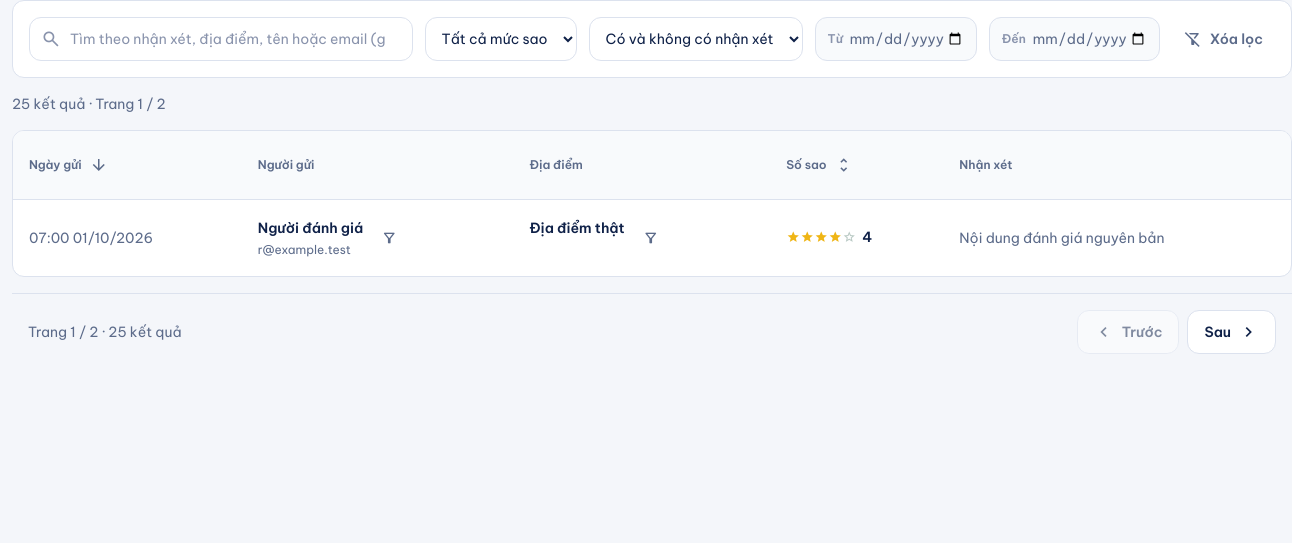
Test: A2 existing consumer compatibility › Feedback retains invalid date validation and suppresses invalid fetch
The image size is (1292, 543).
Expected: the text "Nội dung đánh giá nguyên bản" is shown, x1=959 y1=229 x2=1164 y2=247
Type "2026-10-07" into the date field named "Gửi từ ngày" at (906,39), box x1=849 y1=28 x2=964 y2=50
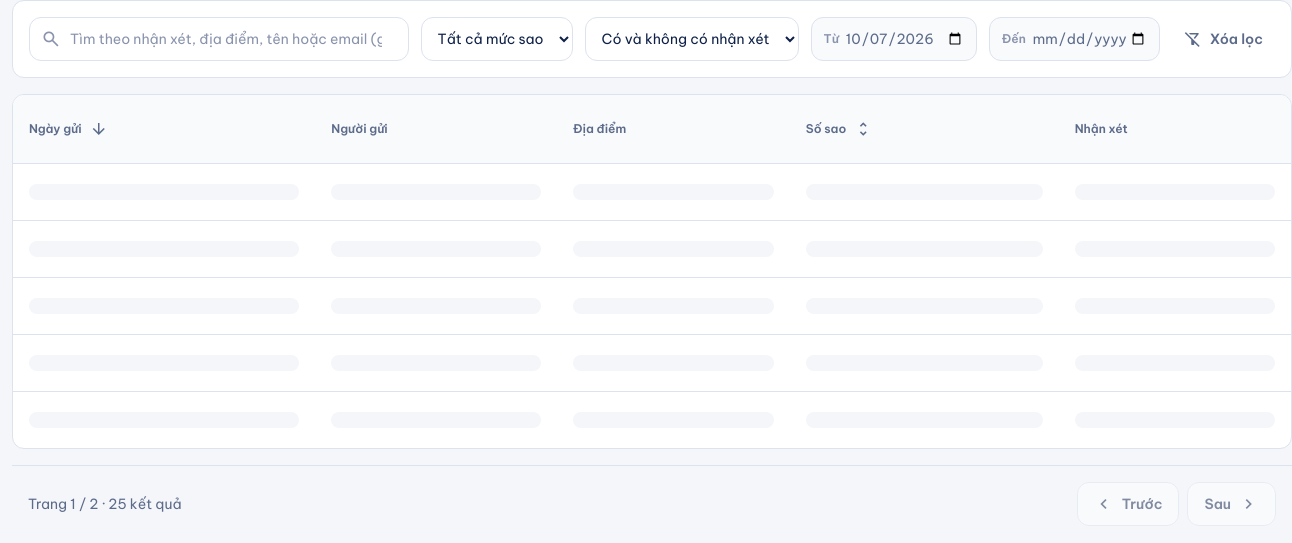
Type "2026-10-01" into the date field named "Gửi đến ngày" at (1089,39), box x1=1032 y1=28 x2=1147 y2=50
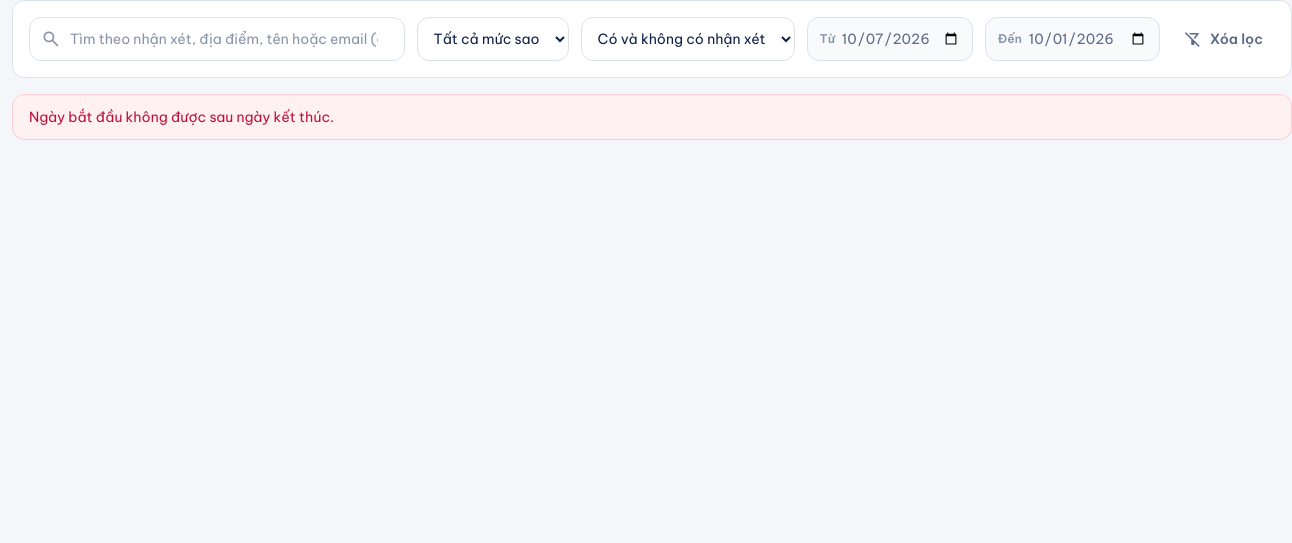
Now the message reads "Ngày bắt đầu không được sau ngày kết thúc.", box x1=29 y1=108 x2=334 y2=126
